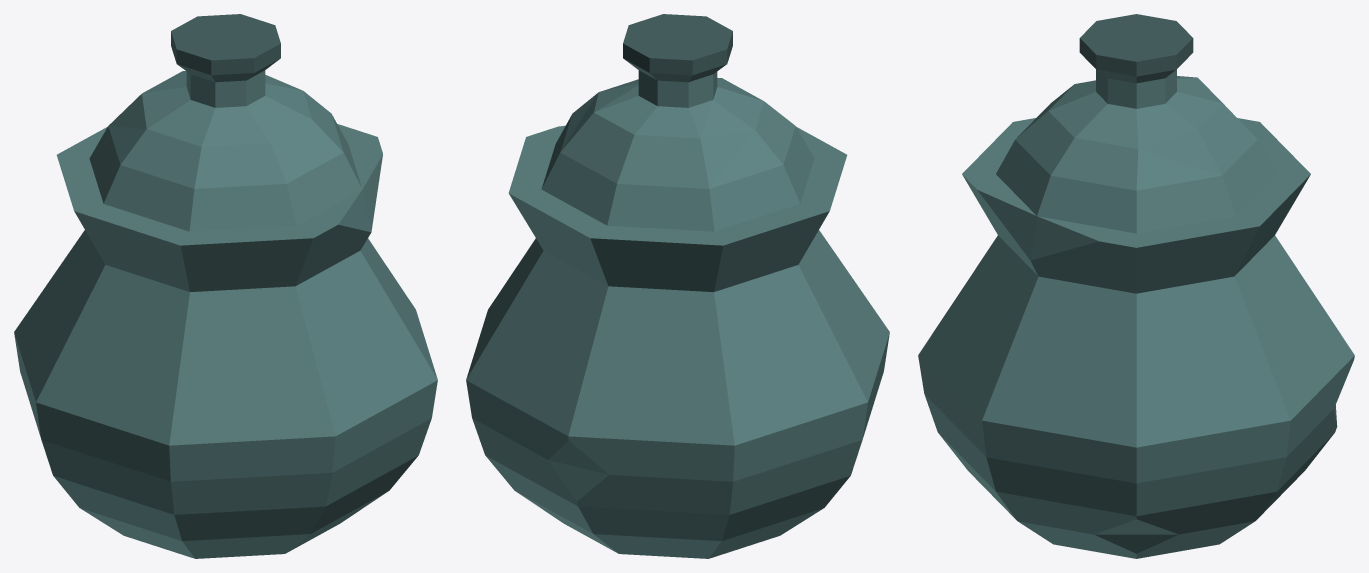
Rendered from SFHW_Jar_008.fbx.
3 views of the same model, side by side, from view 1: azimuth 30°, elevation 25°; view 2: azimuth 150°, elevation 25°; view 3: azimuth 270°, elevation 25° (orthographic).
Parts seen in each view (by area): view 1: SFHW_Jar_008; view 2: SFHW_Jar_008; view 3: SFHW_Jar_008.
Part boxes in pixels (x1=…): SFHW_Jar_008: x1=14, y1=14, x2=437, y2=558; SFHW_Jar_008: x1=466, y1=14, x2=889, y2=558; SFHW_Jar_008: x1=918, y1=14, x2=1354, y2=558.
Size of the model in its own units: 15.2 by 18.09 by 15.2.
